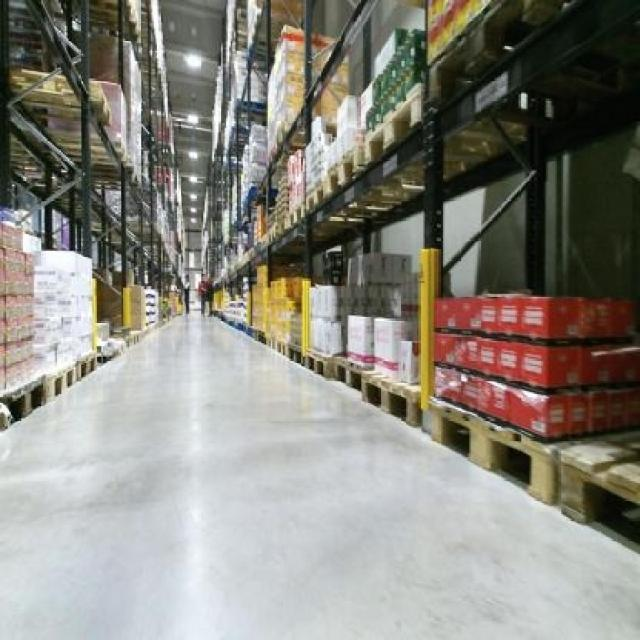floor: (0, 317, 637, 637)
pallets: (434, 294, 637, 435), (0, 208, 38, 388)
